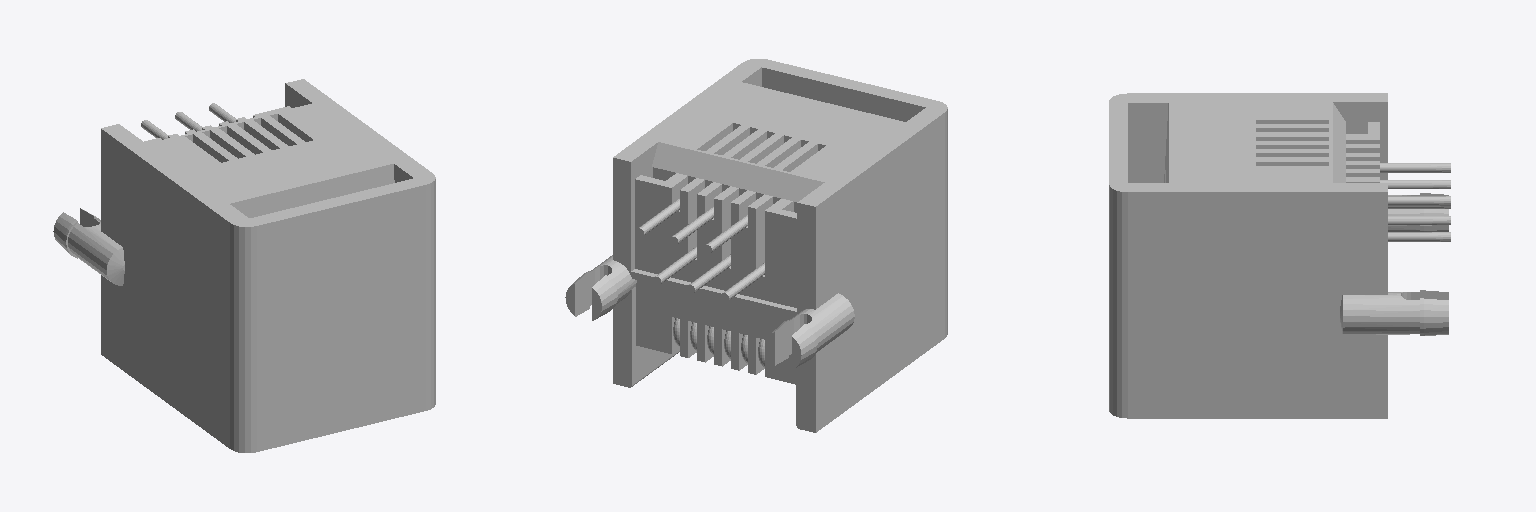
The model's file is RJ11Horiz Wide.obj.
3 views of the same model, side by side, from view 1: azimuth 30°, elevation 25°; view 2: azimuth 150°, elevation 25°; view 3: azimuth 270°, elevation 25° (orthographic).
Parts seen in each view (by area): view 1: Solid1:6; view 2: Solid1:6, Solid1, Solid1:1, Solid1:3, Solid1:4, Solid1:2, Solid1:5; view 3: Solid1:6, Solid1:3, Solid1:2, Solid1:5, Solid1:4, Solid1:1.
Boxes of the visible parts, x1=… form: Solid1:6: x1=53, y1=79, x2=435, y2=452; Solid1:6: x1=565, y1=59, x2=947, y2=432; Solid1: x1=721, y1=263, x2=764, y2=367; Solid1:1: x1=687, y1=254, x2=730, y2=358; Solid1:3: x1=704, y1=214, x2=747, y2=363; Solid1:4: x1=670, y1=206, x2=713, y2=354; Solid1:2: x1=653, y1=246, x2=696, y2=350; Solid1:5: x1=636, y1=198, x2=679, y2=346; Solid1:6: x1=1109, y1=93, x2=1448, y2=418; Solid1:3: x1=1380, y1=163, x2=1450, y2=172; Solid1:2: x1=1388, y1=232, x2=1450, y2=241; Solid1:5: x1=1388, y1=196, x2=1450, y2=205; Solid1:4: x1=1380, y1=180, x2=1450, y2=188; Solid1:1: x1=1388, y1=216, x2=1450, y2=224.
Bounding box in the file's own units: 14.4 × 13 × 17.8.